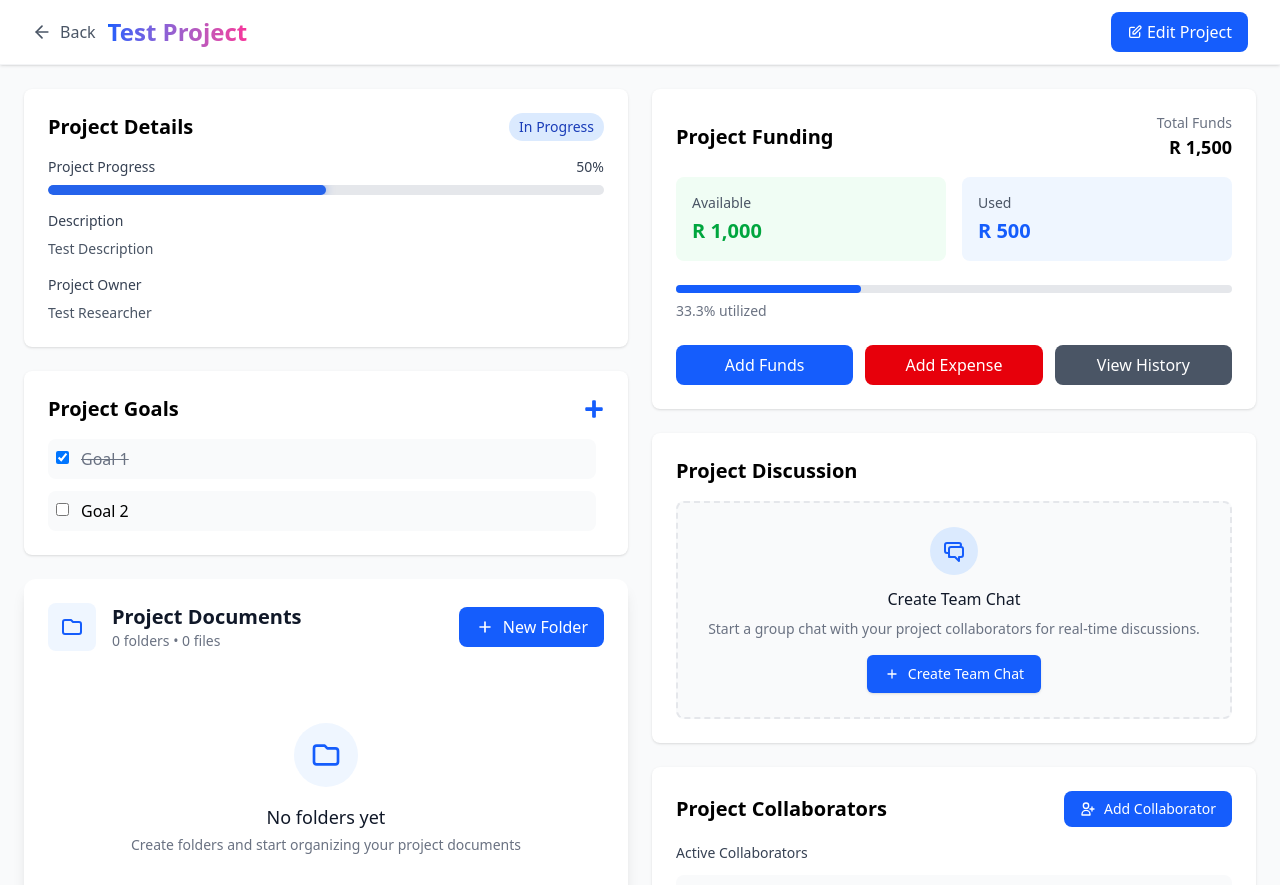
ProjectDetailsPage › allows editing project when user has permission
The width and height of the screenshot is (1280, 885).
Click the button "Edit Project".
click(1179, 32)  # box x1=1111 y1=12 x2=1248 y2=52
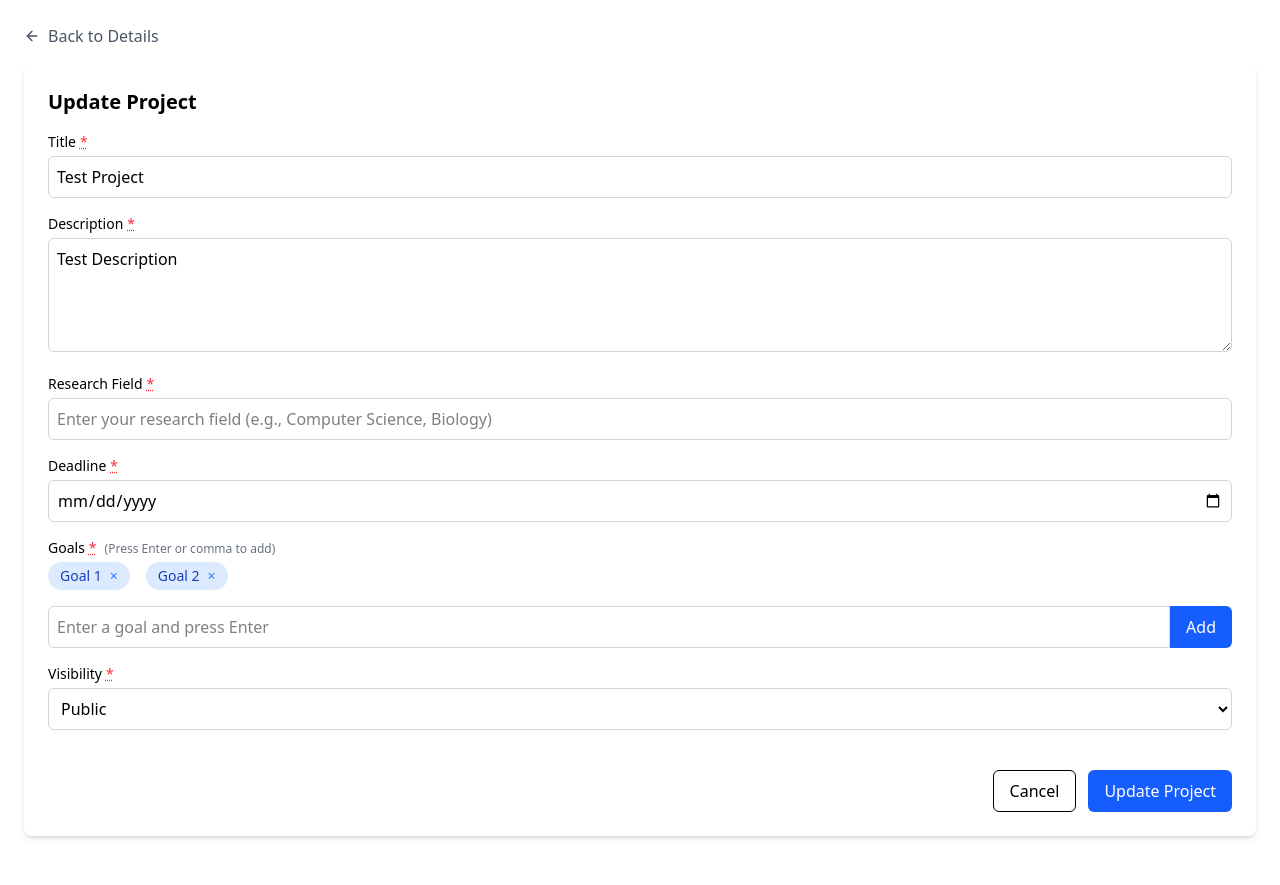
Now the button "Back to Details" is shown, box x1=24 y1=24 x2=159 y2=48
